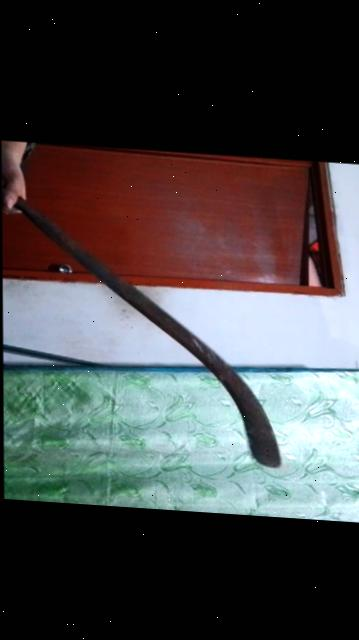long knife: (1, 153, 291, 474)
